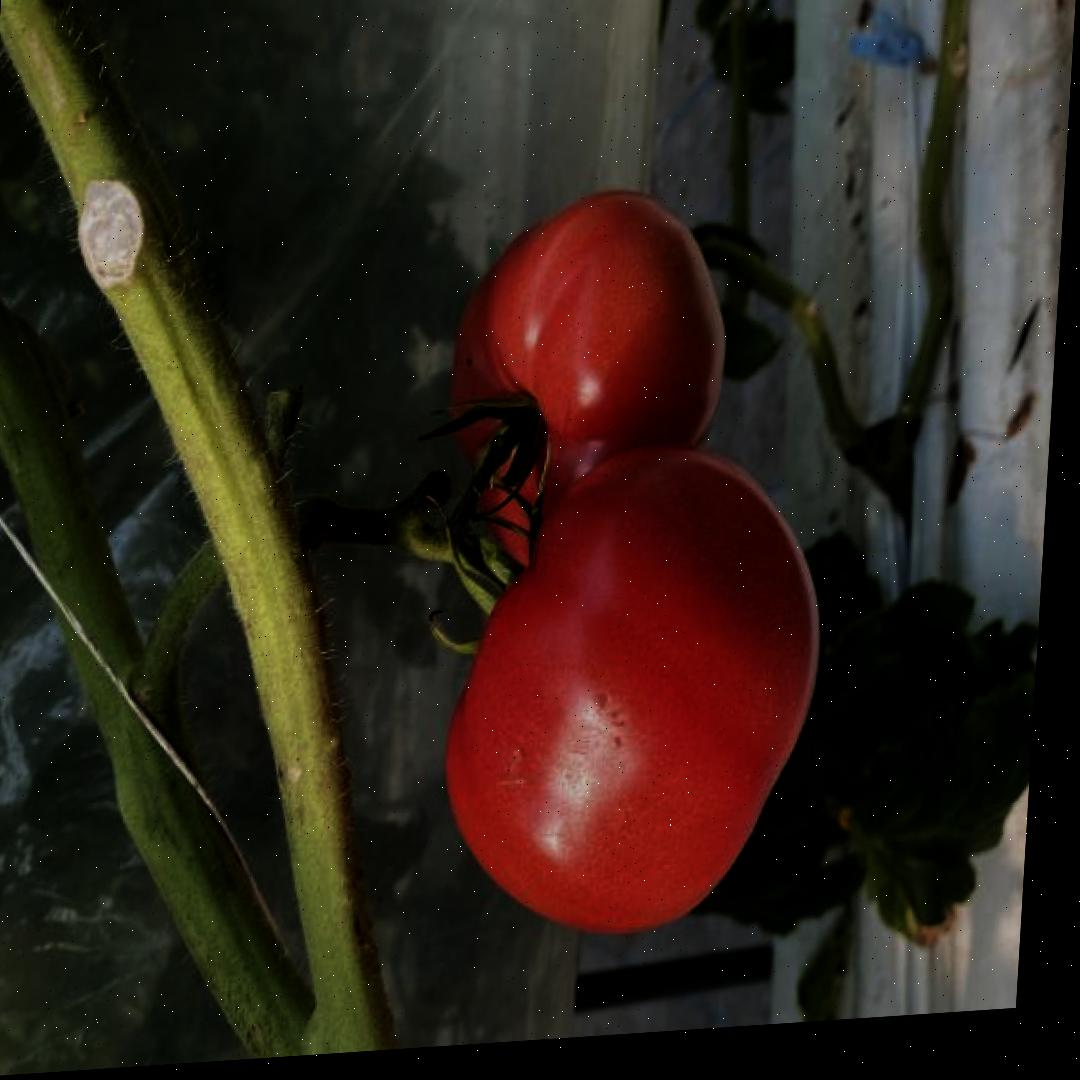matang: (431, 435, 835, 950), (439, 181, 736, 588)
